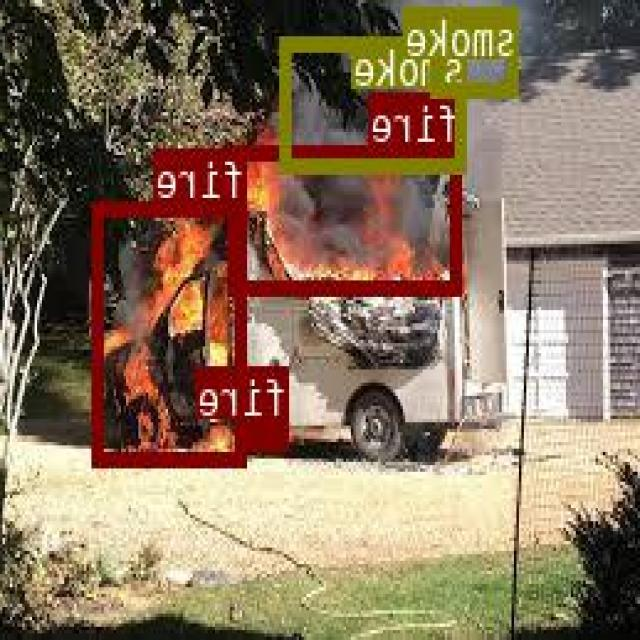fire: (94, 200, 249, 464), (230, 143, 463, 293), (242, 418, 291, 448)
smoke: (283, 34, 468, 172), (434, 6, 520, 93)
